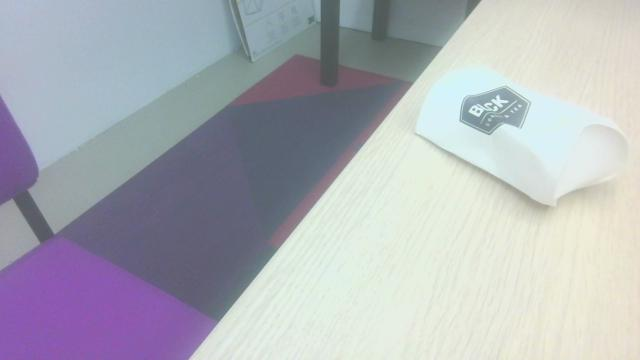cup: (408, 55, 635, 215)
